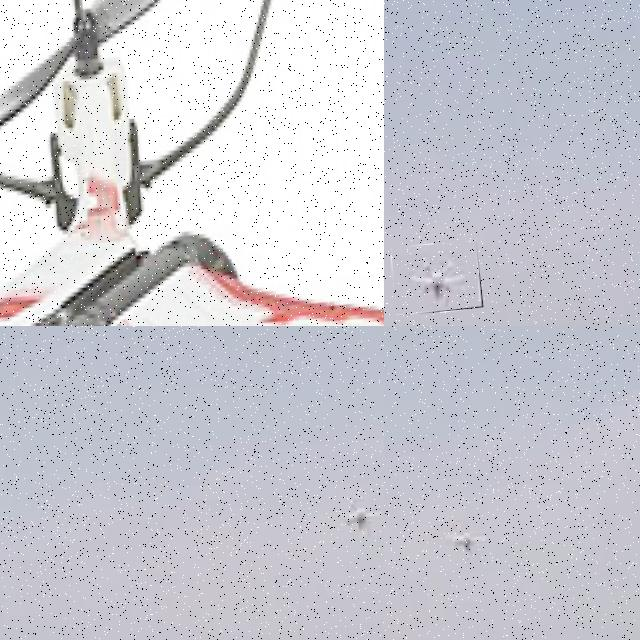0: (389, 239, 483, 316)
drone: (0, 0, 384, 326)
